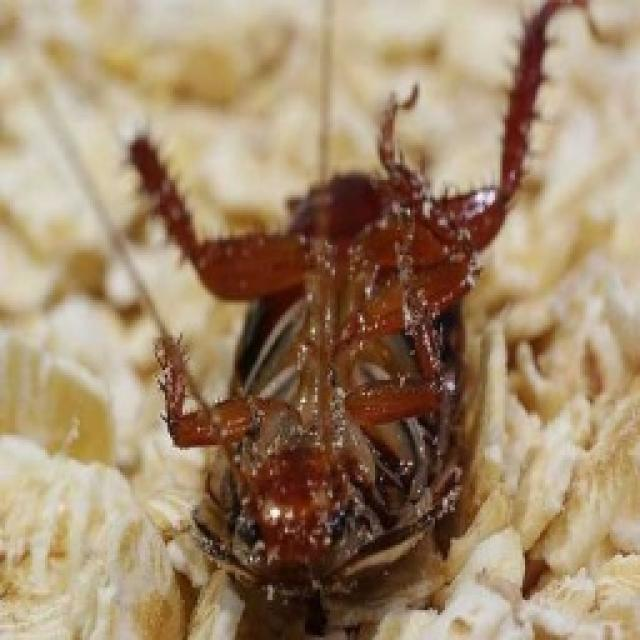cockroach: (118, 3, 569, 623)
